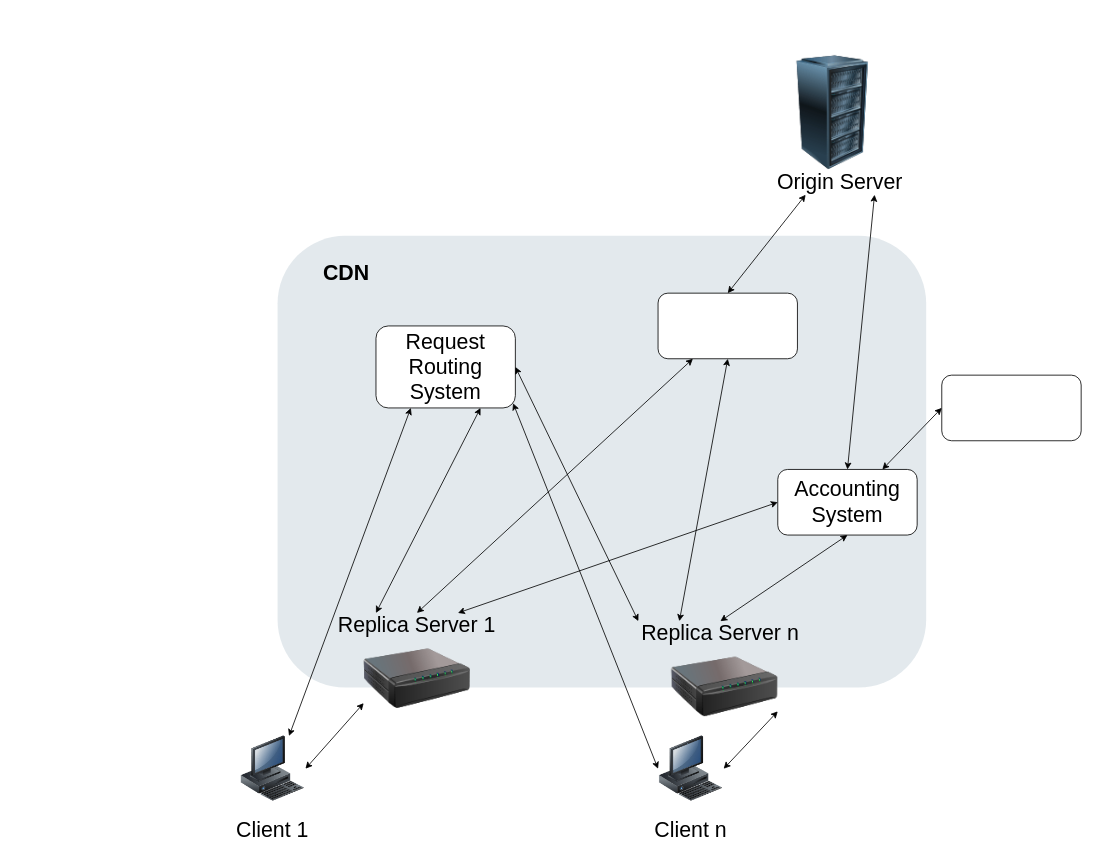
The diagram is 1096 pixels wide and 857 high, and some of its shapes have lost their labels. The shapes that lost their labels are listed below. From the top down, each one's box as (x1, y1, x2, y2) in pixels, then its label:
(657, 292, 797, 359): Distribution System
(941, 374, 1081, 441): Billing Organization
